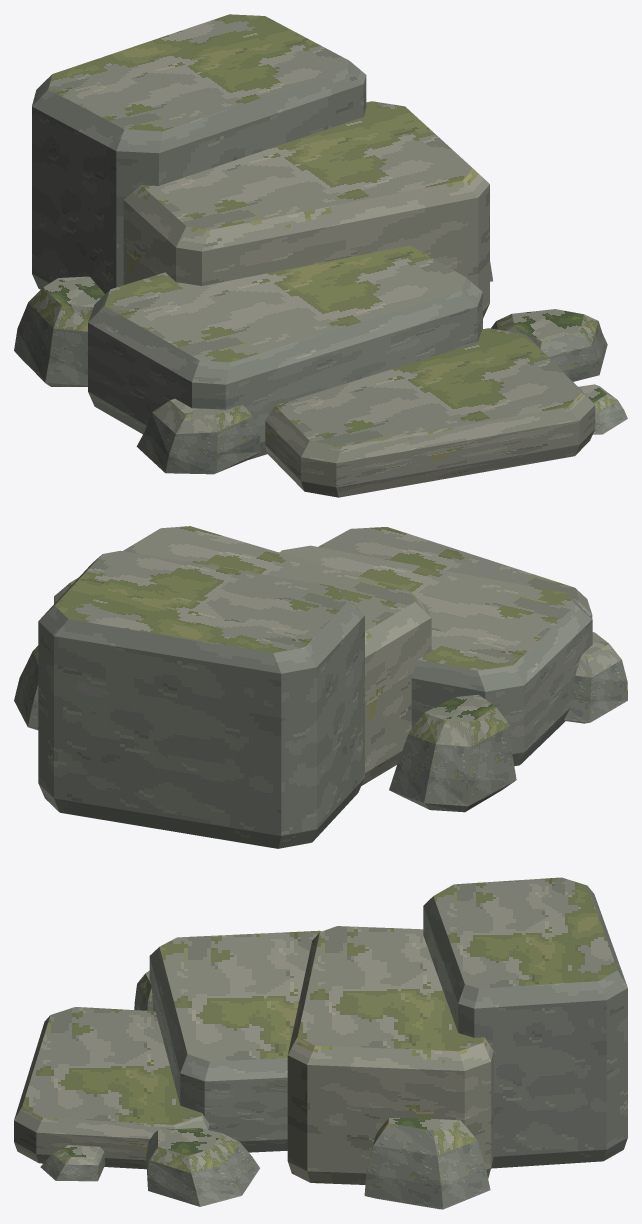
Rendered from ruin_rubble.glb.
3 renders of one model, top to bottom at view 1: azimuth 30°, elevation 25°; view 2: azimuth 150°, elevation 25°; view 3: azimuth 270°, elevation 25°, orthographic. The views are drawn at different scales.
Parts seen in each view (by area): view 1: ruin_rubble; view 2: ruin_rubble; view 3: ruin_rubble.
Boxes of the visible parts, bbox=[...] form: ruin_rubble: bbox=[14, 14, 627, 497]; ruin_rubble: bbox=[14, 526, 627, 848]; ruin_rubble: bbox=[14, 877, 627, 1209].
Bounding box in the file's own units: 2.89 × 1.15 × 3.61.
Materials: 1 (1 with a texture image).
